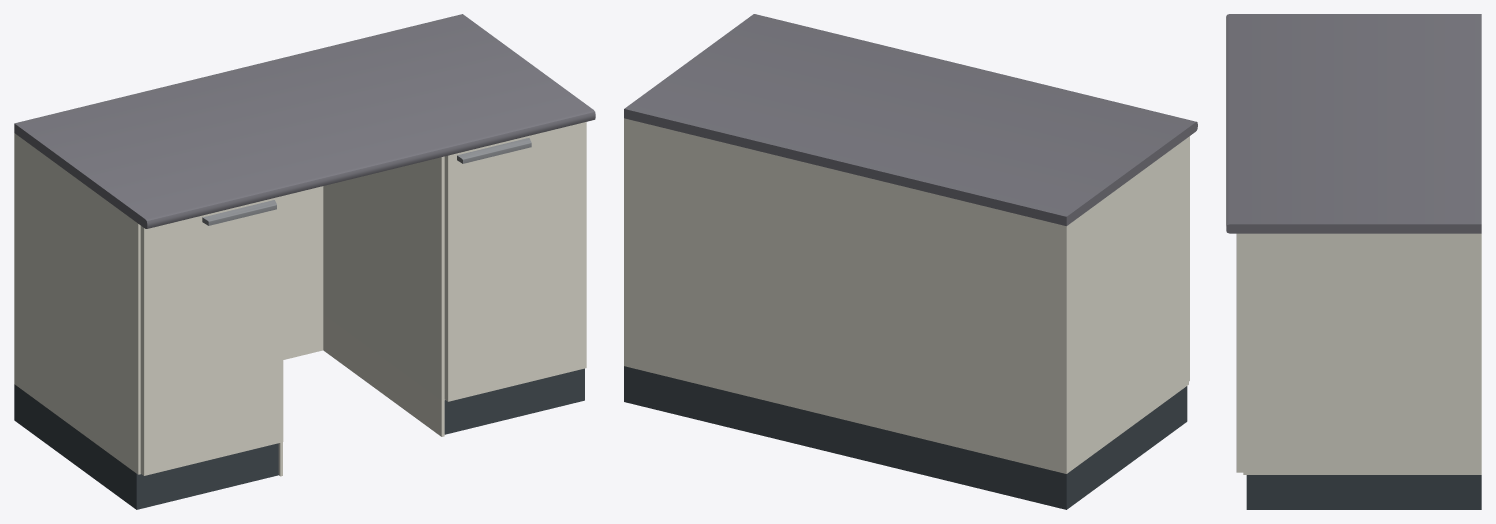
Rendered from SM_Workbench2_LOD0.FBX.
3 renders of one model, left to right at view 1: azimuth 30°, elevation 25°; view 2: azimuth 150°, elevation 25°; view 3: azimuth 270°, elevation 25°, orthographic. The views are drawn at different scales.
Parts seen in each view (by area): view 1: SM_Workbench2_LOD0; view 2: SM_Workbench2_LOD0; view 3: SM_Workbench2_LOD0.
Boxes of the visible parts, x1,y1,x2,y2 form: SM_Workbench2_LOD0: [14, 14, 595, 509]; SM_Workbench2_LOD0: [624, 14, 1197, 509]; SM_Workbench2_LOD0: [1226, 14, 1481, 509].
Size of the model in its own units: 1.42 by 0.8989 by 0.7292.
